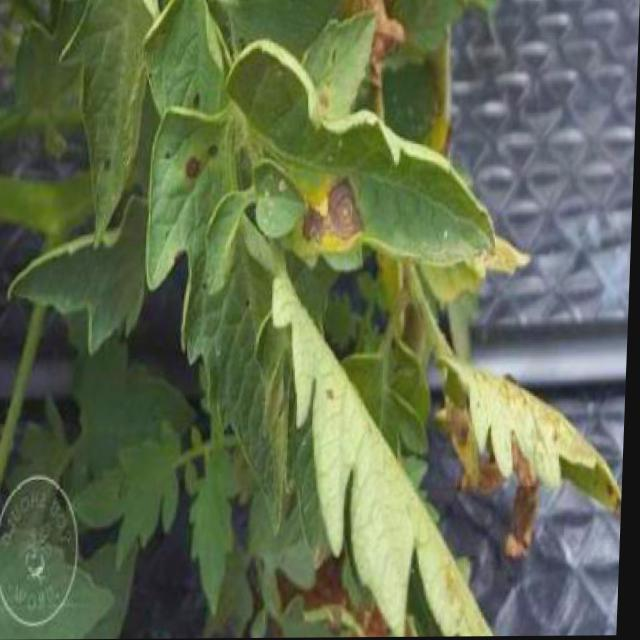Tomato Early blight leaf: (214, 72, 534, 274), (448, 355, 630, 505)
